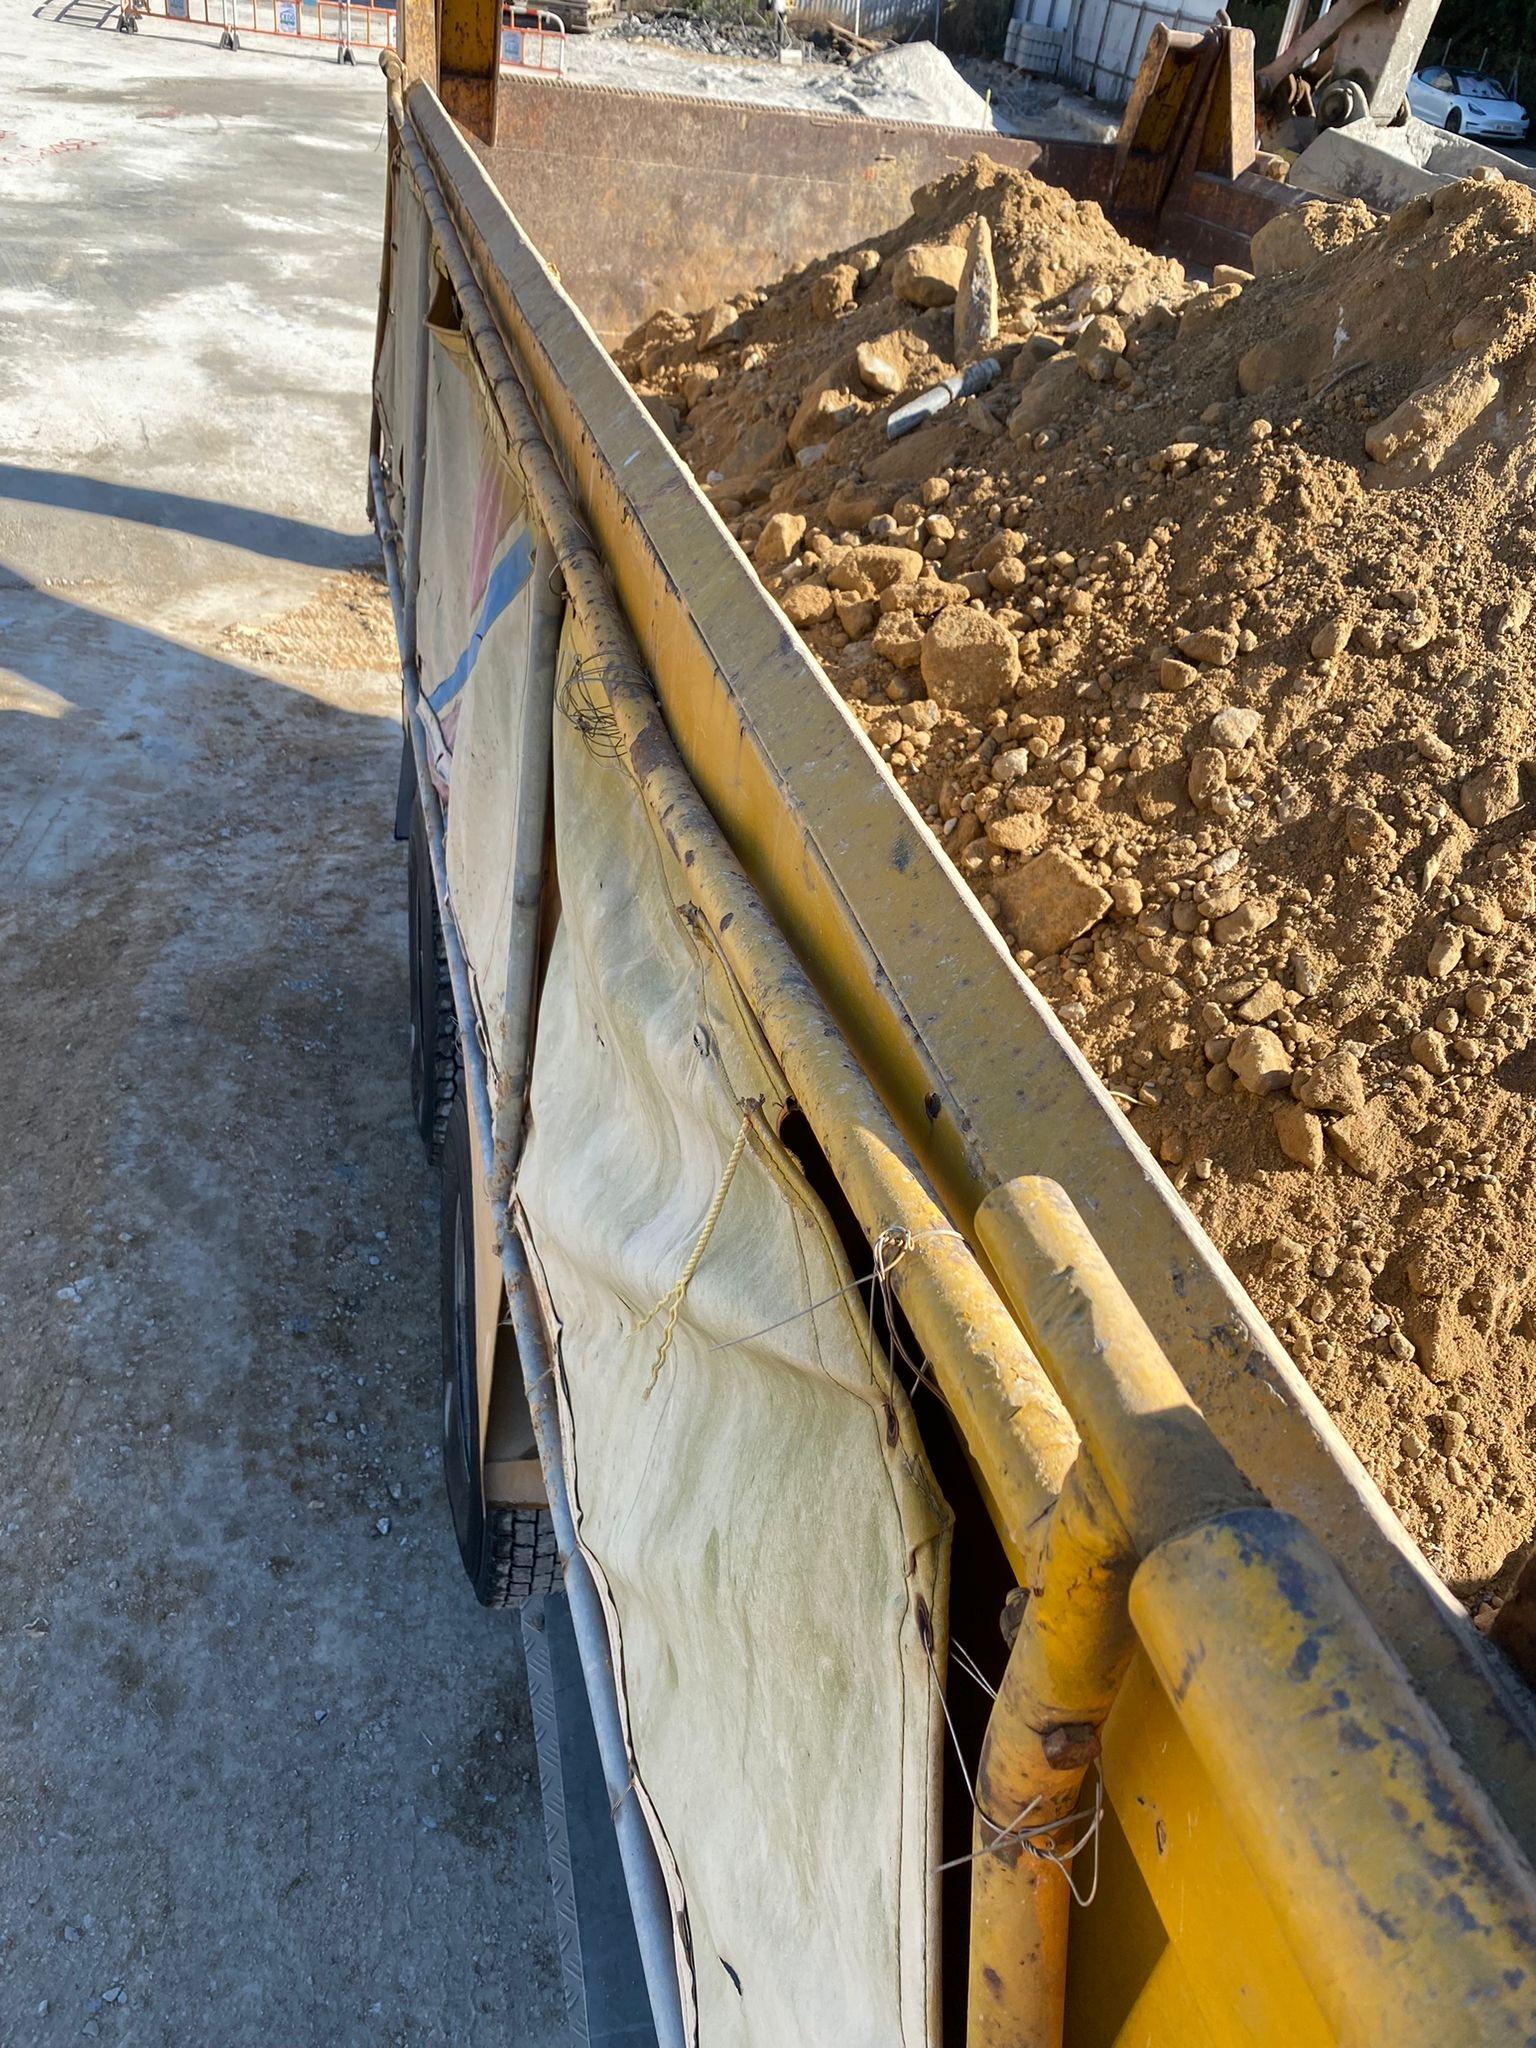dirt: (597, 145, 1533, 1642)
stone: (991, 848, 1112, 956), (918, 603, 1021, 713), (1226, 1022, 1292, 1093)
